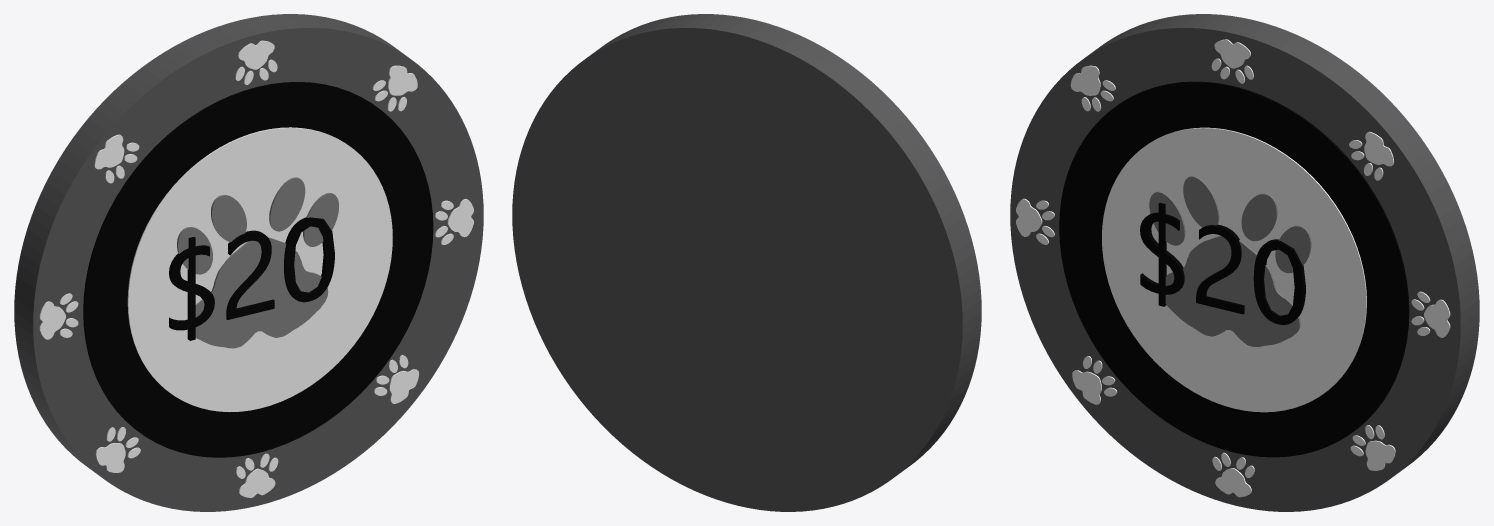
Rendered from Grey paw chip.fbx.
The picture shows the model from 3 angles, left to right: view 1: azimuth 30°, elevation 25°; view 2: azimuth 150°, elevation 25°; view 3: azimuth 330°, elevation 25°; orthographic projection.
Parts seen in each view (by area): view 1: root (×2), node_id4, node_id258, node_id126, node_id260, node_id215, node_id220, node_id242, node_id161, node_id192, node_id226, node_id231 (+1 smaller); view 2: node_id4; view 3: root (×2), node_id4, node_id258, node_id126, node_id260, node_id226, node_id231, node_id220, node_id215, node_id192, node_id237, node_id161 (+1 smaller).
Boxes of the visible parts, box(x1,y1,x2,y2) form: root (×2): box(83, 82, 433, 457); node_id4: box(14, 14, 483, 511); node_id258: box(195, 237, 328, 348); node_id126: box(169, 217, 334, 340); node_id260: box(177, 177, 338, 274); node_id215: box(94, 134, 124, 169); node_id220: box(389, 369, 419, 403); node_id242: box(39, 301, 65, 339); node_id161: box(239, 468, 275, 497); node_id192: box(238, 40, 274, 69); node_id226: box(388, 65, 417, 95); node_id231: box(95, 443, 125, 472); node_id4: box(512, 14, 981, 511); root (×2): box(1059, 81, 1409, 457); node_id4: box(1010, 14, 1479, 511); node_id258: box(1165, 236, 1300, 346); node_id126: box(1140, 202, 1305, 324); node_id260: box(1149, 176, 1311, 273); node_id226: box(1364, 131, 1394, 166); node_id231: box(1072, 370, 1101, 404); node_id220: box(1365, 440, 1395, 470); node_id215: box(1070, 65, 1100, 95); node_id192: box(1214, 39, 1250, 68); node_id237: box(1424, 299, 1450, 337); node_id161: box(1215, 468, 1251, 497).
Bounding box in the file's own units: 0.5155 × 0.5155 × 0.0459.
8 materials, 5 textured.
